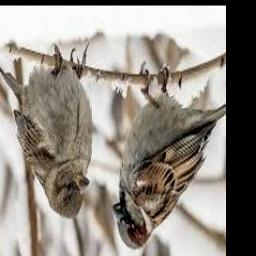Sparrow: (113, 62, 226, 250), (0, 42, 93, 220)
